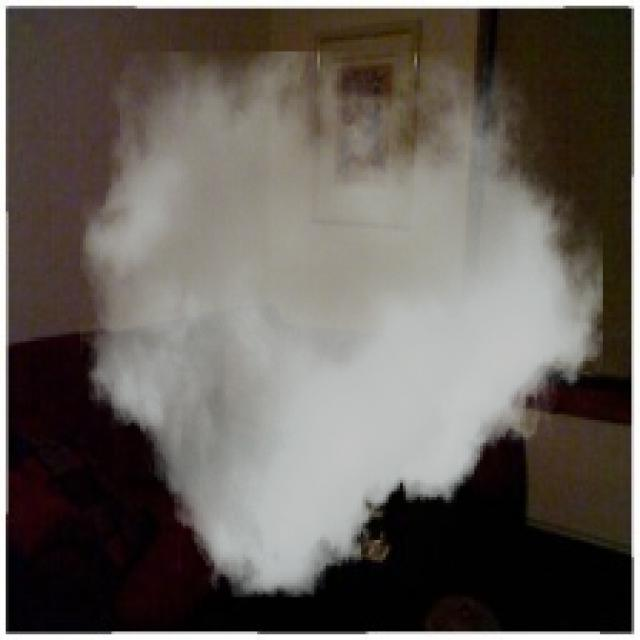smoke: (80, 52, 603, 597)
